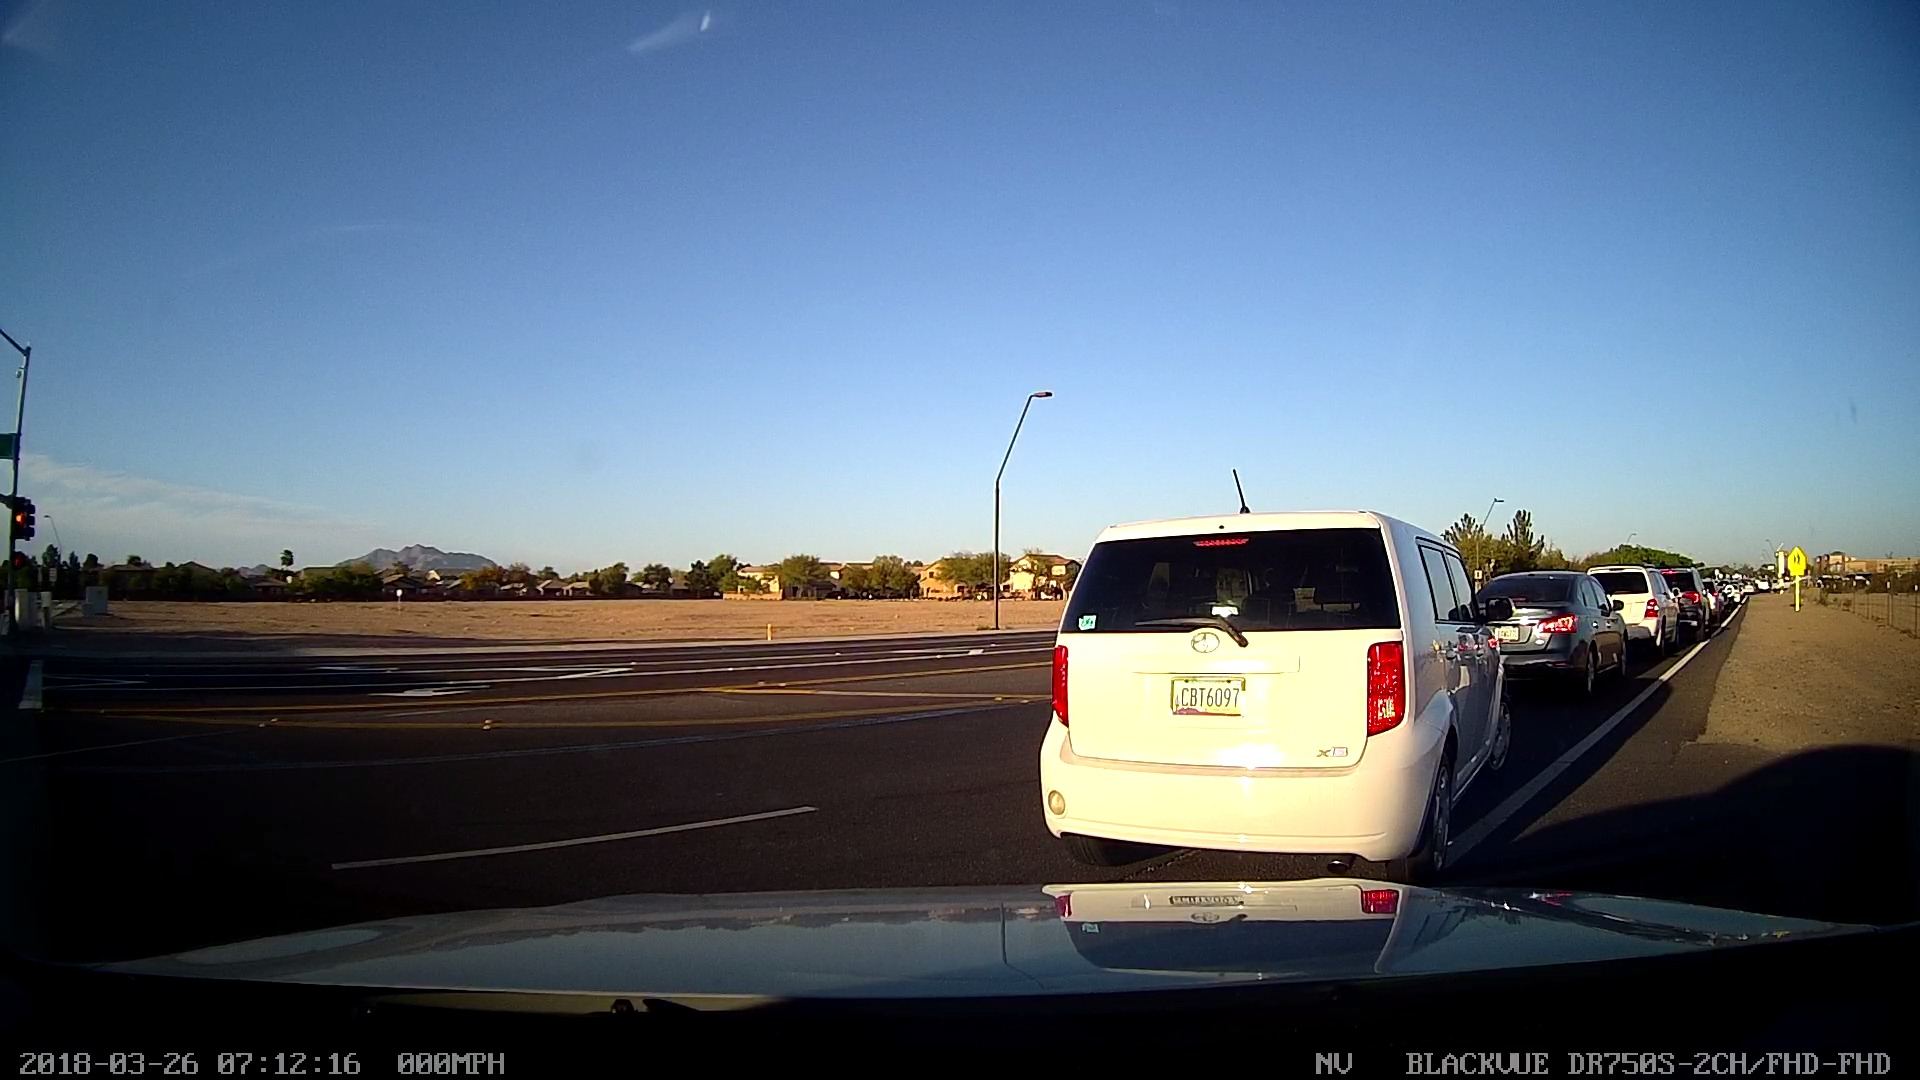plate: (1163, 671, 1248, 721), (1495, 620, 1524, 649)
vehicle: (1031, 501, 1505, 861), (1466, 569, 1634, 696), (1590, 561, 1680, 652), (1663, 566, 1719, 638)
